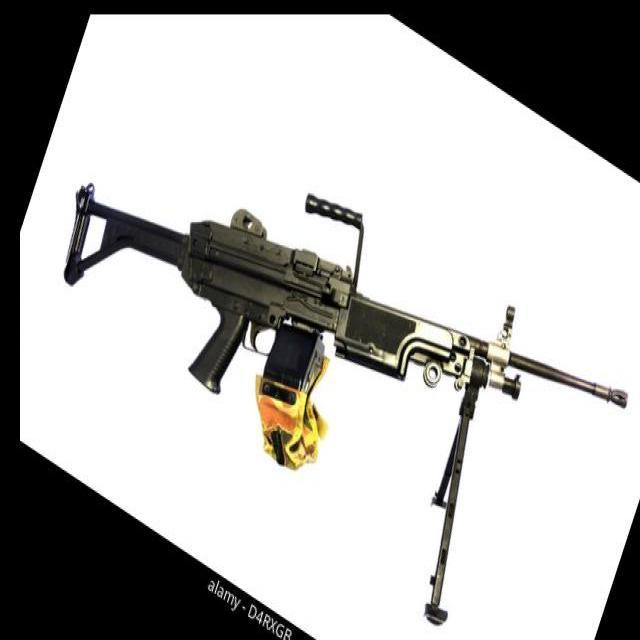weapon: (62, 182, 630, 626)
